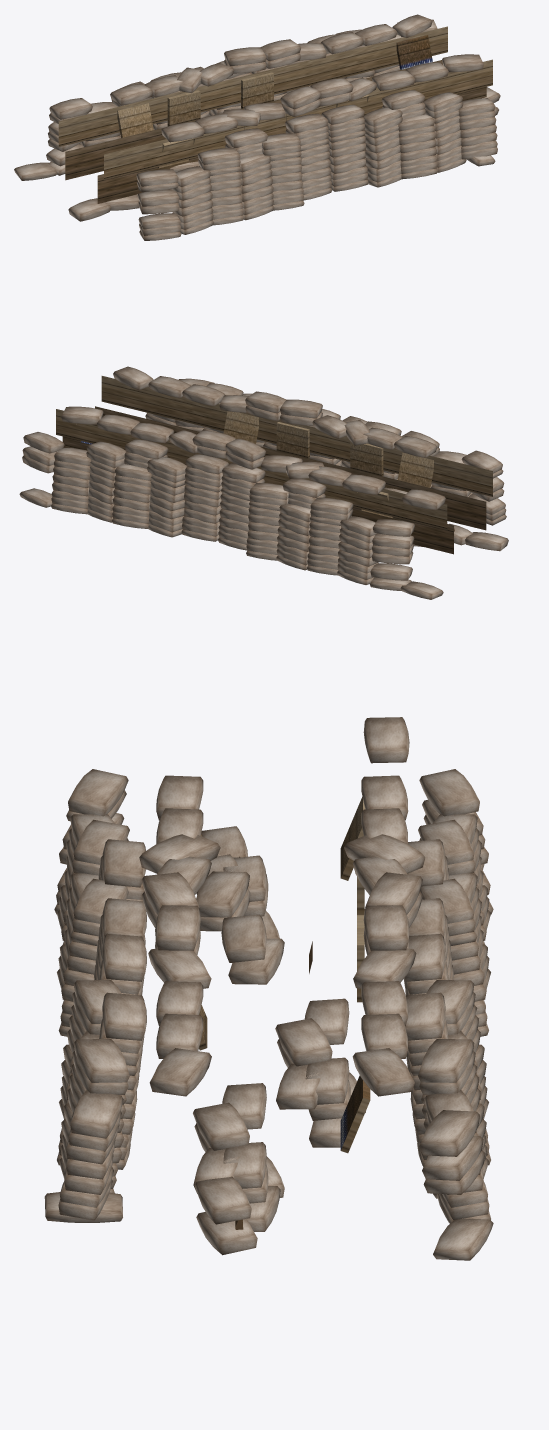
File: trin_wall_med.dae
3 renders of one model, top to bottom at view 1: azimuth 30°, elevation 25°; view 2: azimuth 150°, elevation 25°; view 3: azimuth 270°, elevation 25°, orthographic. The views are drawn at different scales.
Visible parts, largest first — view 1: trin_wall_med; view 2: trin_wall_med; view 3: trin_wall_med.
Part boxes in pixels (x1,y1,x2,y2): trin_wall_med: [14, 14, 500, 240]; trin_wall_med: [19, 366, 508, 599]; trin_wall_med: [44, 717, 493, 1260].
Bounding box in the file's own units: 26.02 × 13.63 × 9.86.
